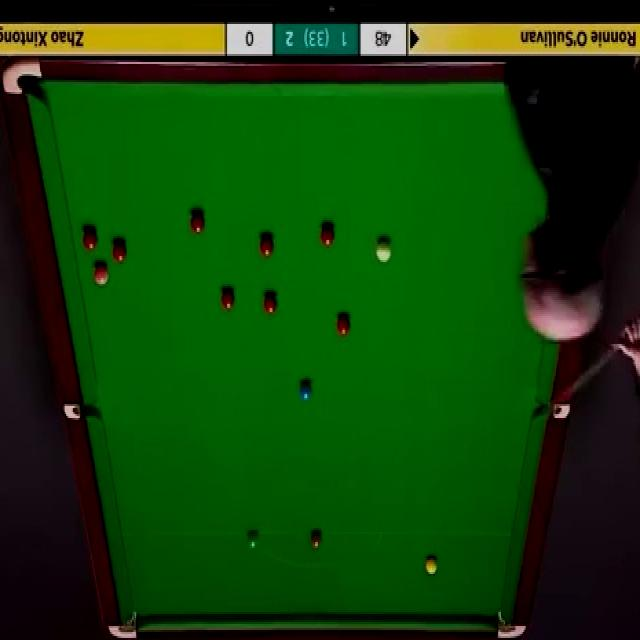blue-ball: (299, 379, 312, 401)
brown-ball: (310, 530, 322, 547)
green-ball: (247, 530, 258, 550)
pink-ball: (92, 262, 109, 287)
red-ball: (335, 314, 352, 340), (82, 227, 99, 253), (189, 211, 206, 237), (262, 292, 278, 316), (220, 288, 235, 313), (259, 233, 273, 258), (320, 227, 336, 247), (112, 241, 127, 262)
white-ball: (374, 235, 392, 263)
yellow-ball: (424, 554, 438, 574)
